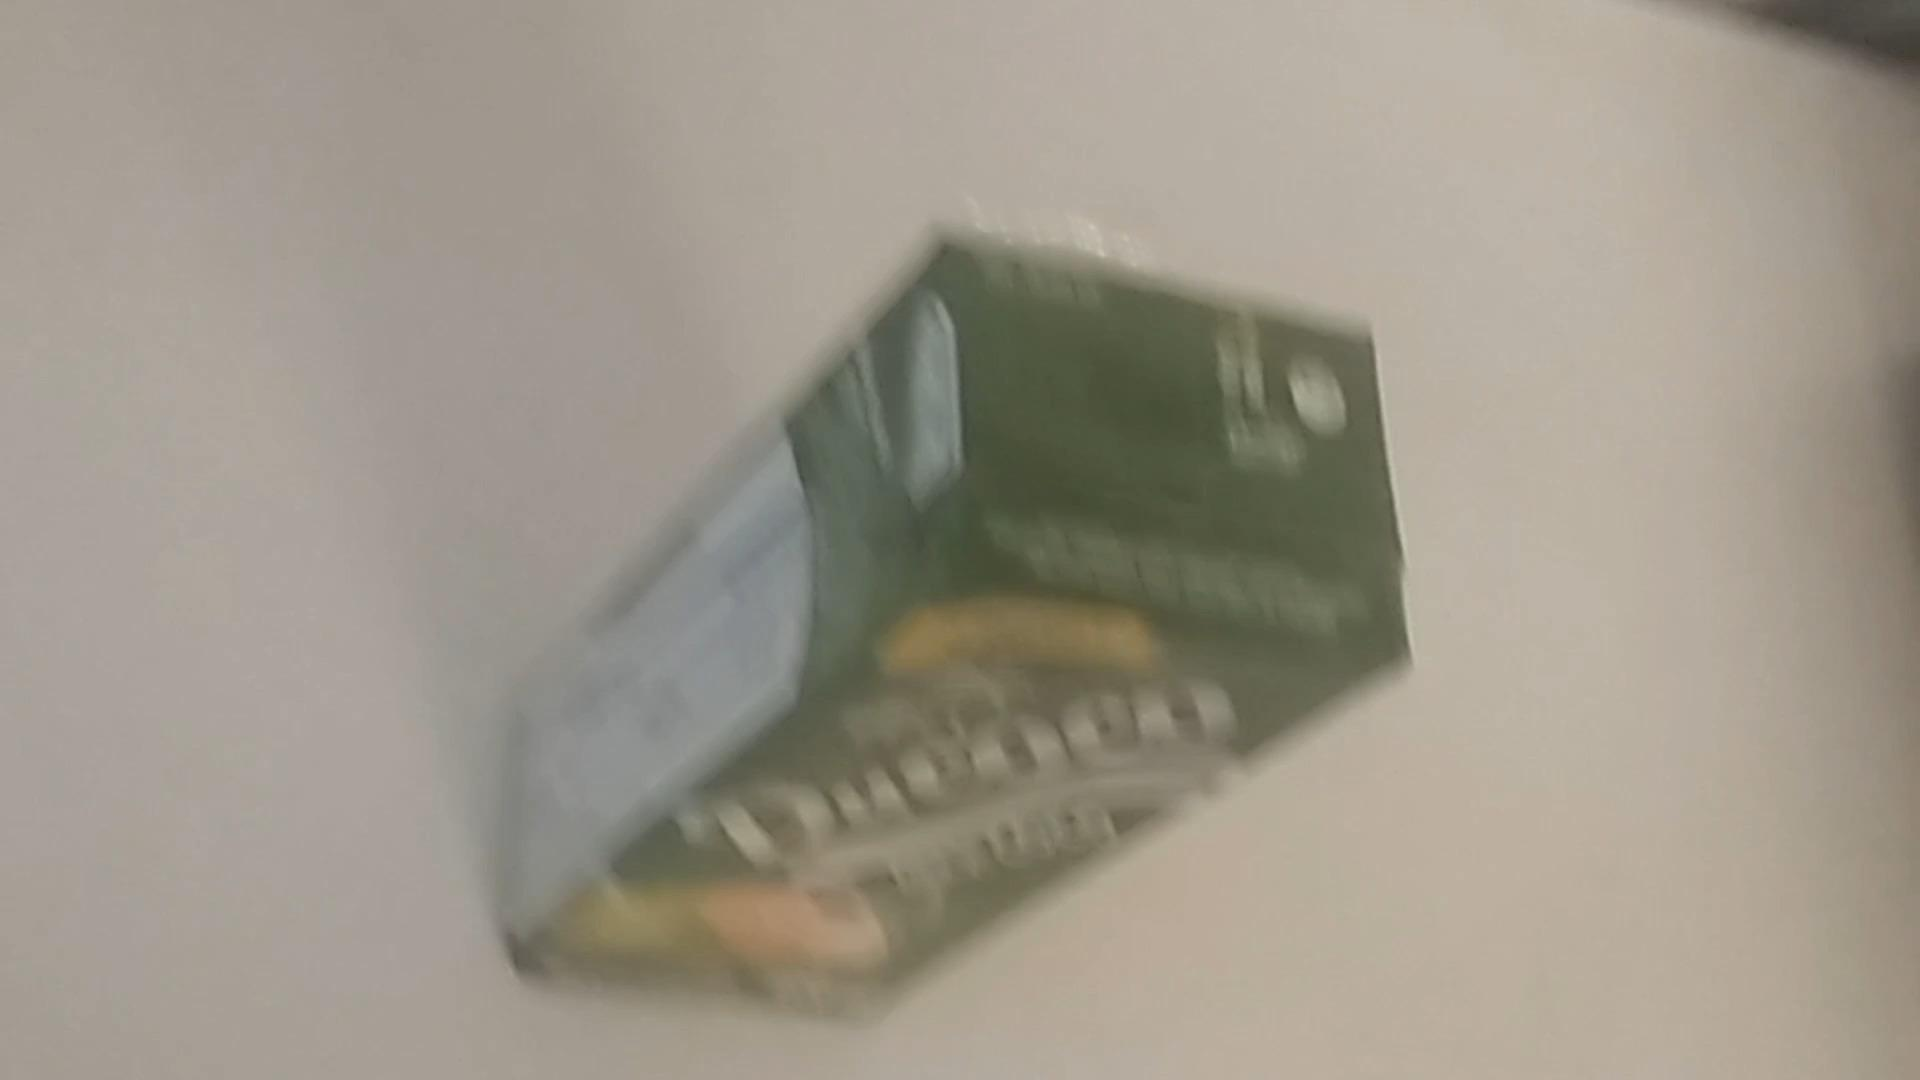coco: (497, 235, 1410, 993)
